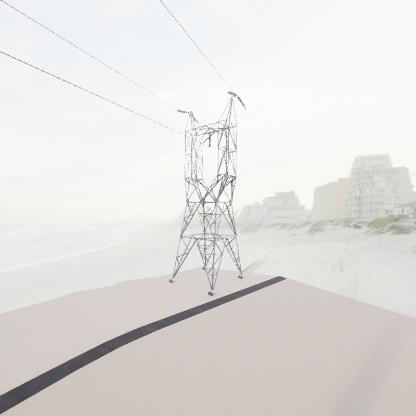tower: (166, 85, 247, 299)
